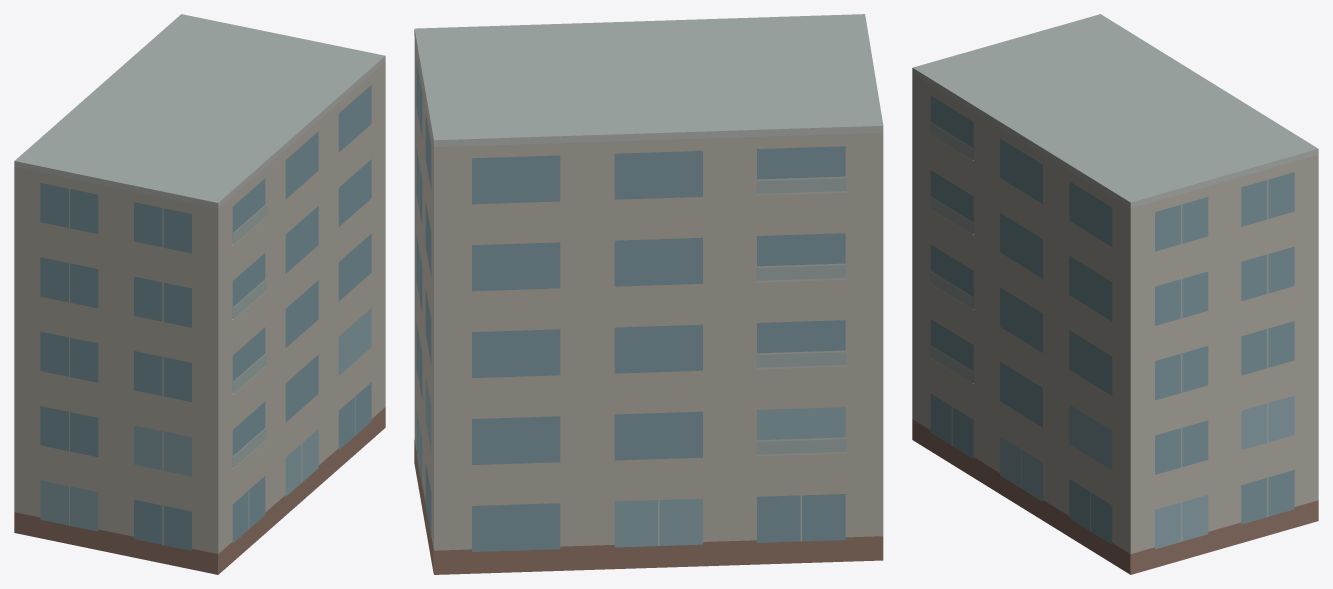
Rendered from survey-upis-32886605.glb.
3 views of the same model, side by side, from view 1: azimuth 30°, elevation 25°; view 2: azimuth 150°, elevation 25°; view 3: azimuth 270°, elevation 25° (orthographic). The views are drawn at different scales.
Visible parts, largest first — view 1: survey-upis-32886605.tmp; view 2: survey-upis-32886605.tmp; view 3: survey-upis-32886605.tmp.
Boxes of the visible parts, x1=… form: survey-upis-32886605.tmp: x1=14, y1=14, x2=385, y2=574; survey-upis-32886605.tmp: x1=414, y1=14, x2=883, y2=574; survey-upis-32886605.tmp: x1=912, y1=14, x2=1318, y2=574.
Bounding box in the file's own units: 16.74 × 15.4 × 15.24.
